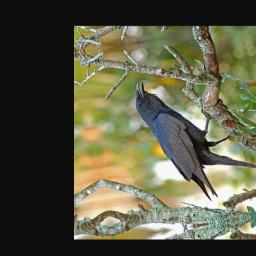Crow: (131, 65, 256, 211)
